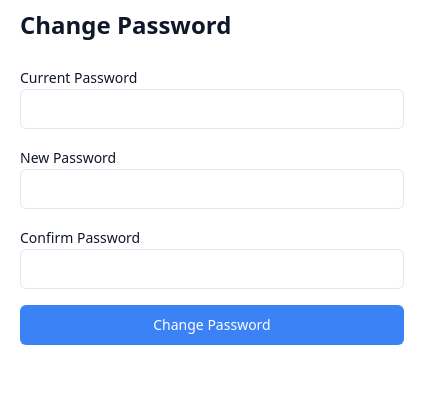
AccountPage › shows API error message on failure
The image size is (425, 398).
Type "wrong" into the password field labelled "Current Password".
click(212, 109); type("wrong")  # box [20,89,404,129]
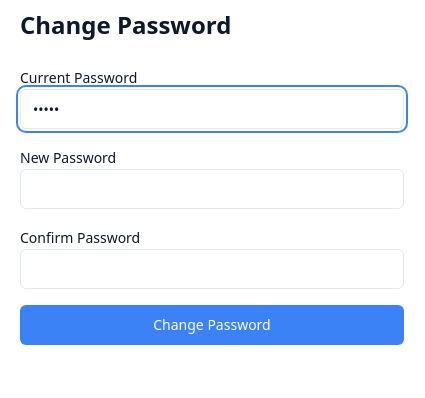
Type "newpass" into the password field labelled "New Password".
click(212, 189); type("newpass")  # box [20,169,404,209]
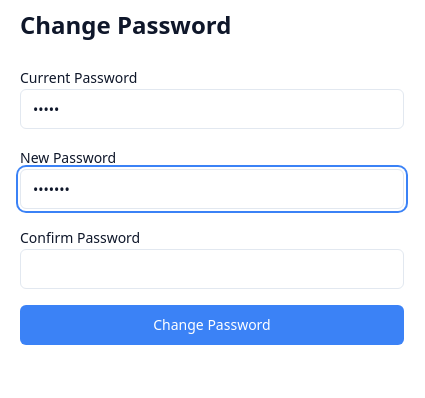
Type "newpass" into the password field labelled "Confirm Password".
click(212, 269); type("newpass")  # box [20,249,404,289]
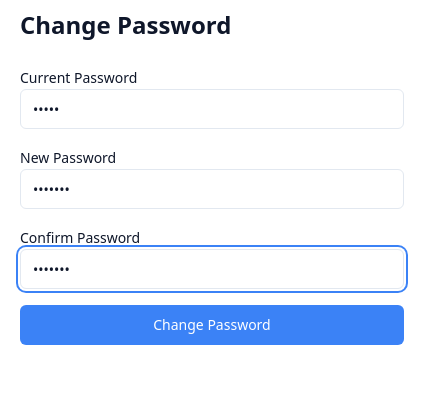
Click the button "Change Password".
click(212, 325)  # box [20,305,404,345]
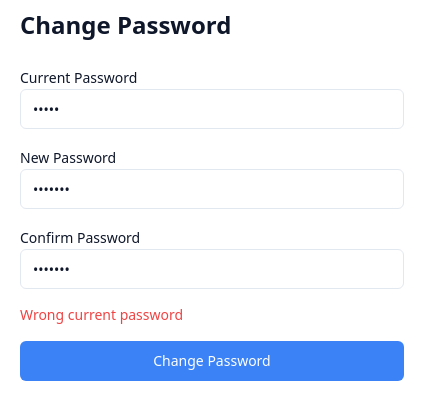
Expected: the text "Wrong current password" is shown, [20,305,183,324]
